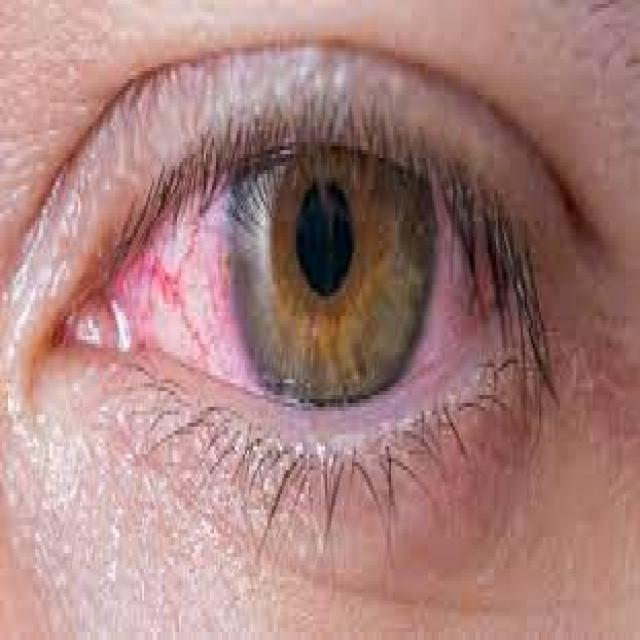Conjunctivitis: (42, 200, 507, 370)
